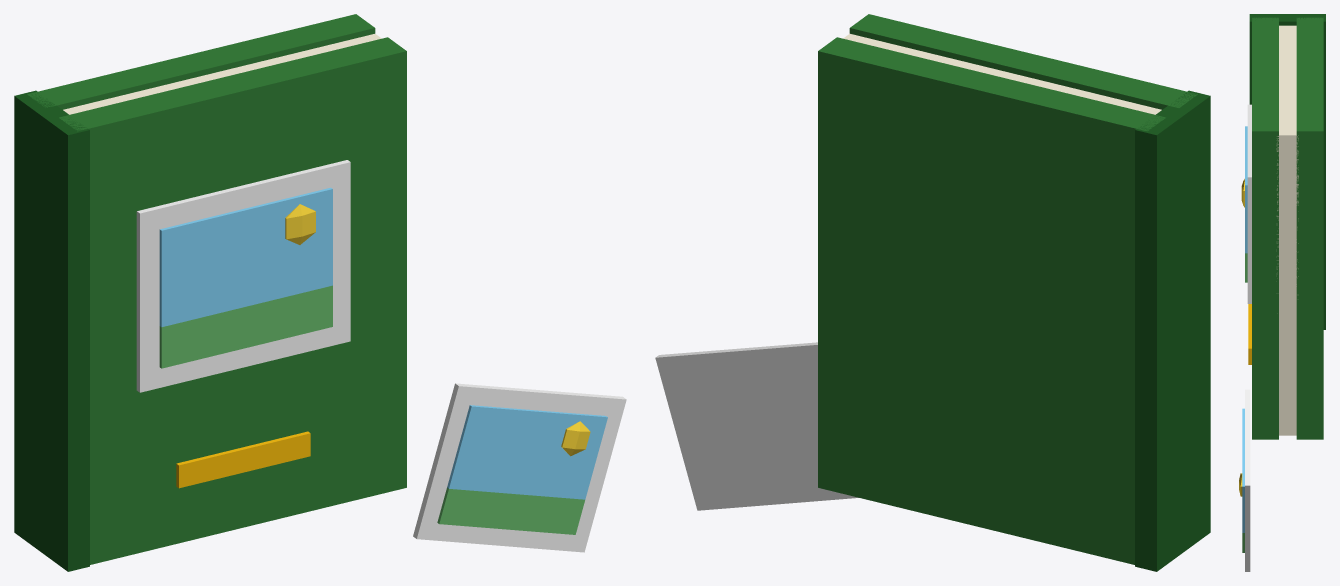
Rendered from fotoalbum.glb.
The picture shows the model from 3 angles, left to right: view 1: azimuth 30°, elevation 25°; view 2: azimuth 150°, elevation 25°; view 3: azimuth 270°, elevation 25°; orthographic projection. The views are drawn at different scales.
Parts seen in each view (by area): view 1: fotoalbum; view 2: fotoalbum; view 3: fotoalbum.
Boxes of the visible parts, bbox=[...] form: fotoalbum: bbox=[14, 14, 626, 571]; fotoalbum: bbox=[655, 14, 1210, 571]; fotoalbum: bbox=[1239, 14, 1325, 571].
Size of the model in its own units: 0.5056 by 0.4698 by 0.097.
